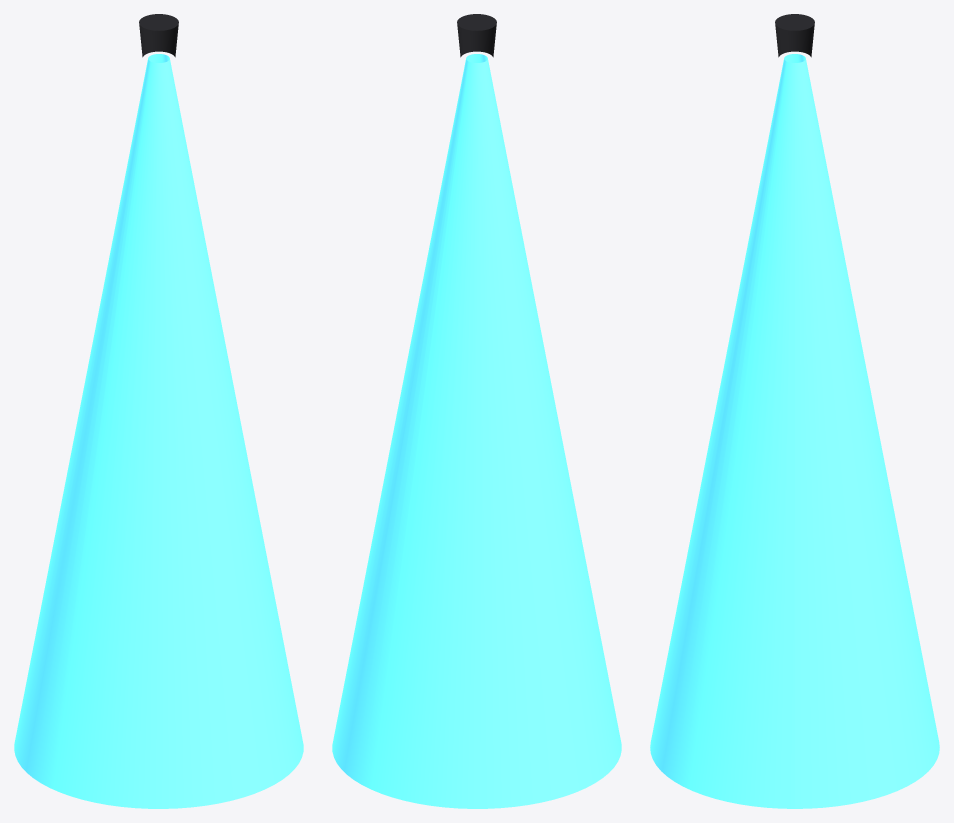
File: beam_sapphire.glb
3 views of the same model, side by side, from view 1: azimuth 30°, elevation 25°; view 2: azimuth 150°, elevation 25°; view 3: azimuth 270°, elevation 25° (orthographic).
Parts seen in each view (by area): view 1: beam, can0, can1; view 2: beam, can0, can1; view 3: beam, can0, can1.
Boxes of the visible parts, bbox=[...] form: beam: bbox=[14, 54, 303, 808]; can0: bbox=[139, 24, 178, 57]; can1: bbox=[139, 14, 178, 30]; beam: bbox=[332, 54, 621, 808]; can0: bbox=[457, 24, 496, 57]; can1: bbox=[457, 14, 496, 30]; beam: bbox=[650, 54, 939, 808]; can0: bbox=[775, 24, 814, 57]; can1: bbox=[775, 14, 814, 30].
Size of the model in its own units: 1.6 by 4.42 by 1.6.
